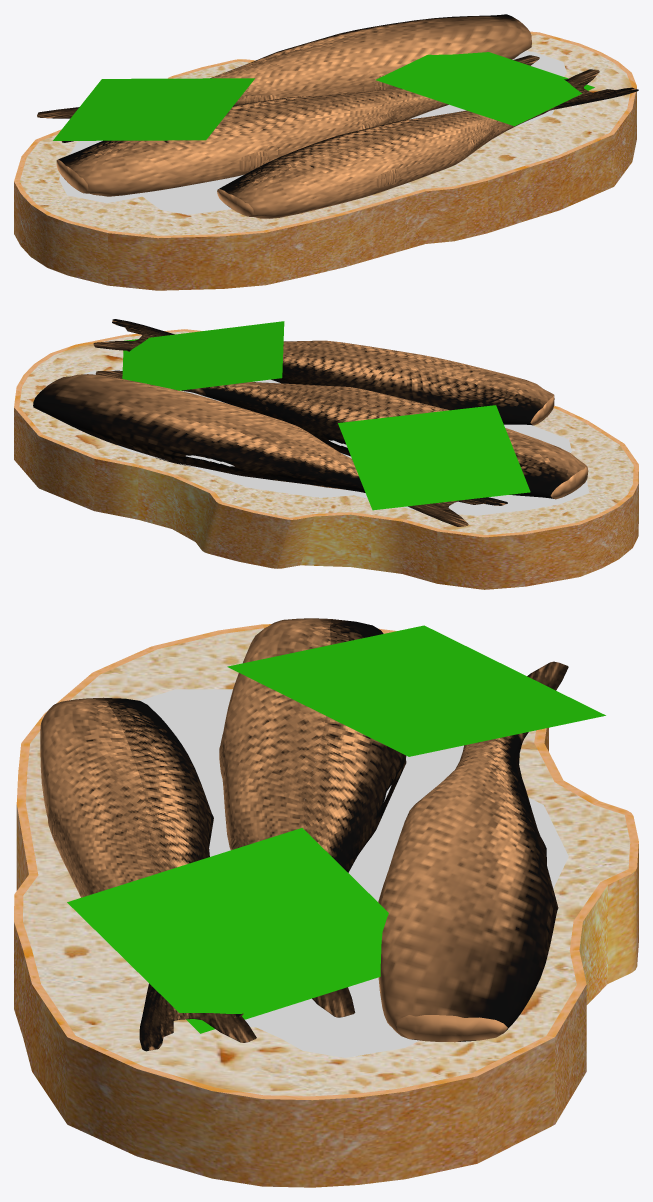
File: Loaf.fbx
3 views of the same model, one above another, from view 1: azimuth 30°, elevation 25°; view 2: azimuth 150°, elevation 25°; view 3: azimuth 270°, elevation 25° (orthographic). The views are drawn at different scales.
Parts seen in each view (by area): view 1: Cube, Rudd-Fish_Cube.002, Rudd-Fish_Cube.001, Rudd-Fish_Cube.003, Plane.002, Plane.001, Plane; view 2: Cube, Rudd-Fish_Cube.003, Plane.002, Rudd-Fish_Cube.001, Rudd-Fish_Cube.002, Plane.001, Plane; view 3: Cube, Rudd-Fish_Cube.003, Plane.001, Rudd-Fish_Cube.001, Rudd-Fish_Cube.002, Plane.002, Plane.
Boxes of the visible parts, bbox=[...] form: Cube: bbox=[14, 31, 636, 290]; Rudd-Fish_Cube.002: bbox=[56, 55, 570, 196]; Rudd-Fish_Cube.001: bbox=[217, 69, 638, 218]; Rudd-Fish_Cube.003: bbox=[37, 14, 531, 142]; Plane.002: bbox=[53, 78, 254, 140]; Plane.001: bbox=[376, 52, 594, 126]; Plane: bbox=[59, 51, 566, 214]; Cube: bbox=[14, 329, 638, 589]; Rudd-Fish_Cube.003: bbox=[33, 374, 507, 526]; Plane.002: bbox=[338, 405, 530, 510]; Rudd-Fish_Cube.001: bbox=[93, 319, 554, 425]; Rudd-Fish_Cube.002: bbox=[95, 348, 588, 499]; Plane.001: bbox=[122, 321, 284, 390]; Plane: bbox=[83, 369, 588, 515]; Cube: bbox=[14, 624, 638, 1187]; Rudd-Fish_Cube.003: bbox=[378, 661, 568, 1042]; Plane.001: bbox=[67, 828, 388, 1033]; Rudd-Fish_Cube.001: bbox=[40, 697, 256, 1051]; Rudd-Fish_Cube.002: bbox=[219, 618, 406, 1017]; Plane.002: bbox=[227, 625, 605, 756]; Plane: bbox=[139, 662, 568, 1057].
Bounding box in the file's own units: 834 × 135 × 462.
